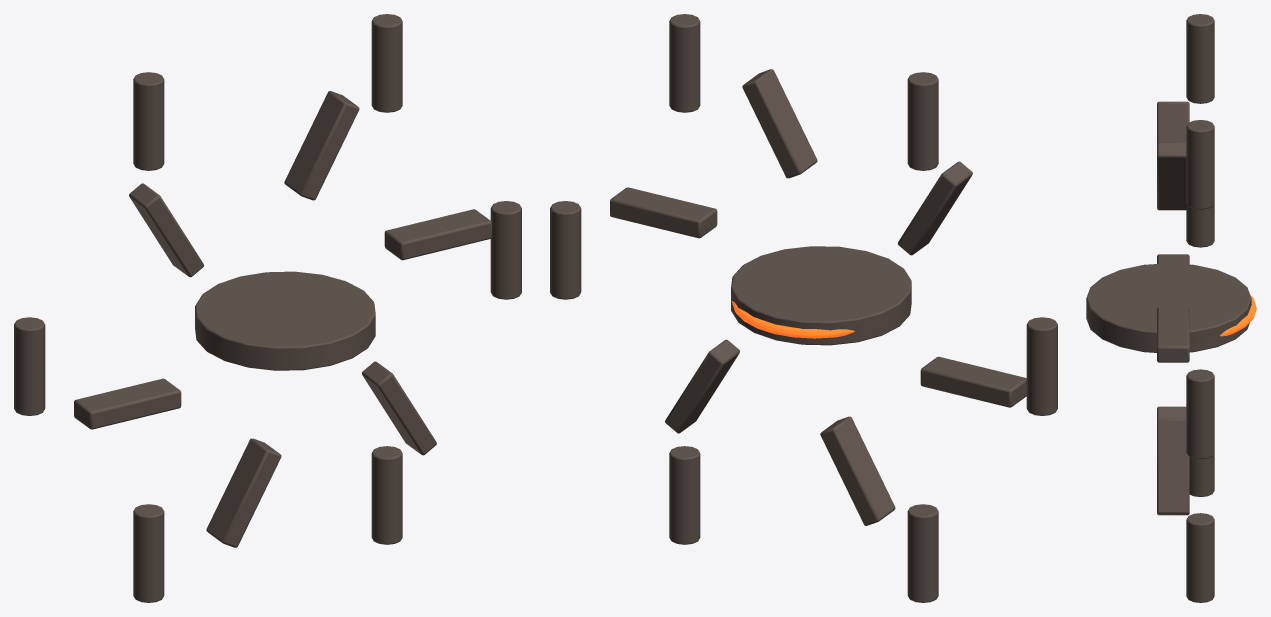
Rendered from env_boss_arena_furnace_90_top3d_v001.glb.
3 views of the same model, side by side, from view 1: azimuth 30°, elevation 25°; view 2: azimuth 150°, elevation 25°; view 3: azimuth 270°, elevation 25° (orthographic). The views are drawn at different scales.
Parts seen in each view (by area): view 1: Arena_CentralCrucible, Arena_HeatBarrier_4, Arena_HeatBarrier_1, Arena_HeatBarrier_0, Arena_HeatBarrier_3, Arena_VentStack_1, Arena_VentStack_2, Arena_VentStack_4, Arena_VentStack_5, Arena_VentStack_3, Arena_VentStack_0, Arena_HeatBarrier_5 (+1 smaller); view 2: Arena_CentralCrucible, Arena_HeatBarrier_1, Arena_HeatBarrier_4, Arena_HeatBarrier_0, Arena_HeatBarrier_3, Arena_VentStack_1, Arena_VentStack_2, Arena_VentStack_4, Arena_VentStack_5, Arena_VentStack_0, Arena_VentStack_3, Arena_HeatBarrier_2 (+2 smaller); view 3: Arena_CentralCrucible, Arena_HeatBarrier_5, Arena_VentStack_2, Arena_VentStack_5, Arena_VentStack_0, Arena_VentStack_1, Arena_HeatBarrier_1, Arena_HeatBarrier_0, Arena_HeatBarrier_2, Arena_VentStack_3, Arena_VentStack_4, Arena_HeatBarrier_4 (+2 smaller).
Boxes of the visible parts, x1,y1,x2,y2 form: Arena_CentralCrucible: (195, 271, 375, 370); Arena_HeatBarrier_4: (206, 438, 281, 547); Arena_HeatBarrier_1: (284, 91, 359, 200); Arena_HeatBarrier_0: (384, 209, 491, 260); Arena_HeatBarrier_3: (74, 378, 181, 429); Arena_VentStack_1: (371, 14, 402, 112); Arena_VentStack_2: (133, 72, 164, 170); Arena_VentStack_4: (133, 504, 164, 602); Arena_VentStack_5: (371, 446, 402, 544); Arena_VentStack_3: (14, 317, 45, 415); Arena_VentStack_0: (490, 201, 521, 299); Arena_HeatBarrier_5: (362, 361, 436, 455); Arena_CentralCrucible: (731, 246, 911, 345); Arena_HeatBarrier_1: (742, 69, 817, 178); Arena_HeatBarrier_4: (820, 416, 895, 525); Arena_HeatBarrier_0: (610, 187, 717, 238); Arena_HeatBarrier_3: (920, 356, 1026, 407); Arena_VentStack_1: (669, 14, 700, 112); Arena_VentStack_2: (907, 72, 938, 170); Arena_VentStack_4: (907, 504, 938, 602); Arena_VentStack_5: (669, 446, 700, 544); Arena_VentStack_0: (550, 201, 581, 299); Arena_VentStack_3: (1026, 317, 1057, 415); Arena_HeatBarrier_2: (898, 161, 972, 255); Arena_CentralCrucible: (1086, 263, 1251, 352); Arena_HeatBarrier_5: (1157, 418, 1189, 515); Arena_VentStack_2: (1186, 14, 1214, 103); Arena_VentStack_5: (1186, 513, 1214, 602); Arena_VentStack_0: (1186, 369, 1214, 459); Arena_VentStack_1: (1186, 120, 1214, 209); Arena_HeatBarrier_1: (1157, 142, 1189, 210); Arena_HeatBarrier_0: (1157, 307, 1189, 362); Arena_HeatBarrier_2: (1157, 101, 1189, 143); Arena_VentStack_3: (1186, 204, 1214, 247); Arena_VentStack_4: (1189, 453, 1214, 496); Arena_HeatBarrier_4: (1157, 406, 1186, 419).
Bounding box in the file's own units: 24.3 × 23.92 × 7.83.
